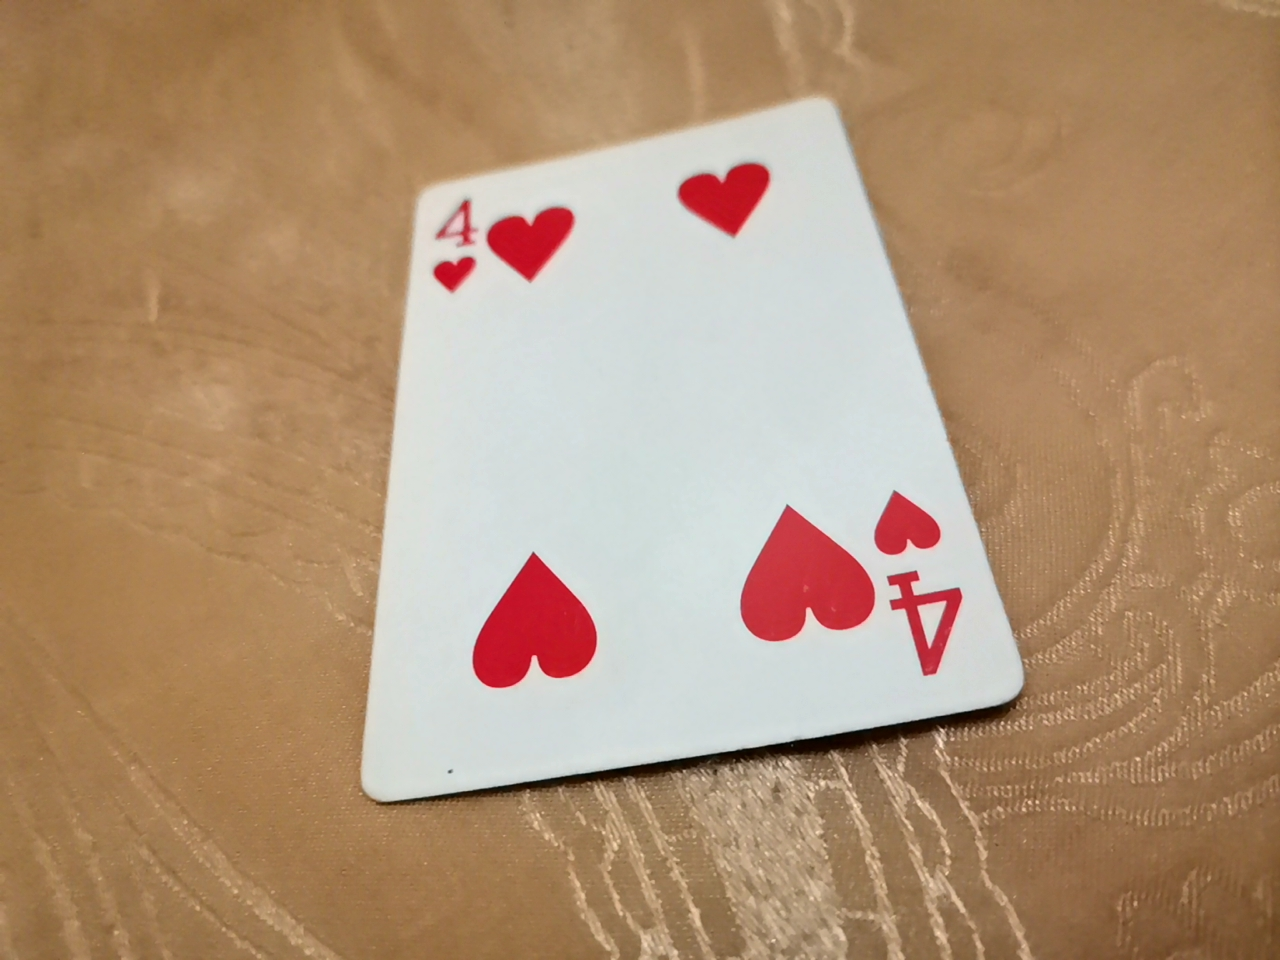hx 4: (366, 71, 1026, 781)
